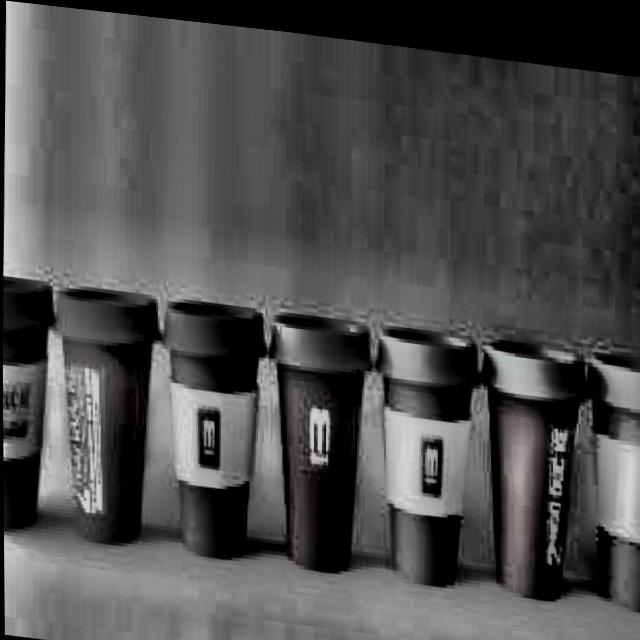Cup: (474, 315, 587, 602), (51, 271, 161, 550), (157, 287, 269, 560), (368, 311, 479, 584), (265, 298, 373, 575), (580, 325, 640, 612), (2, 263, 56, 546)
